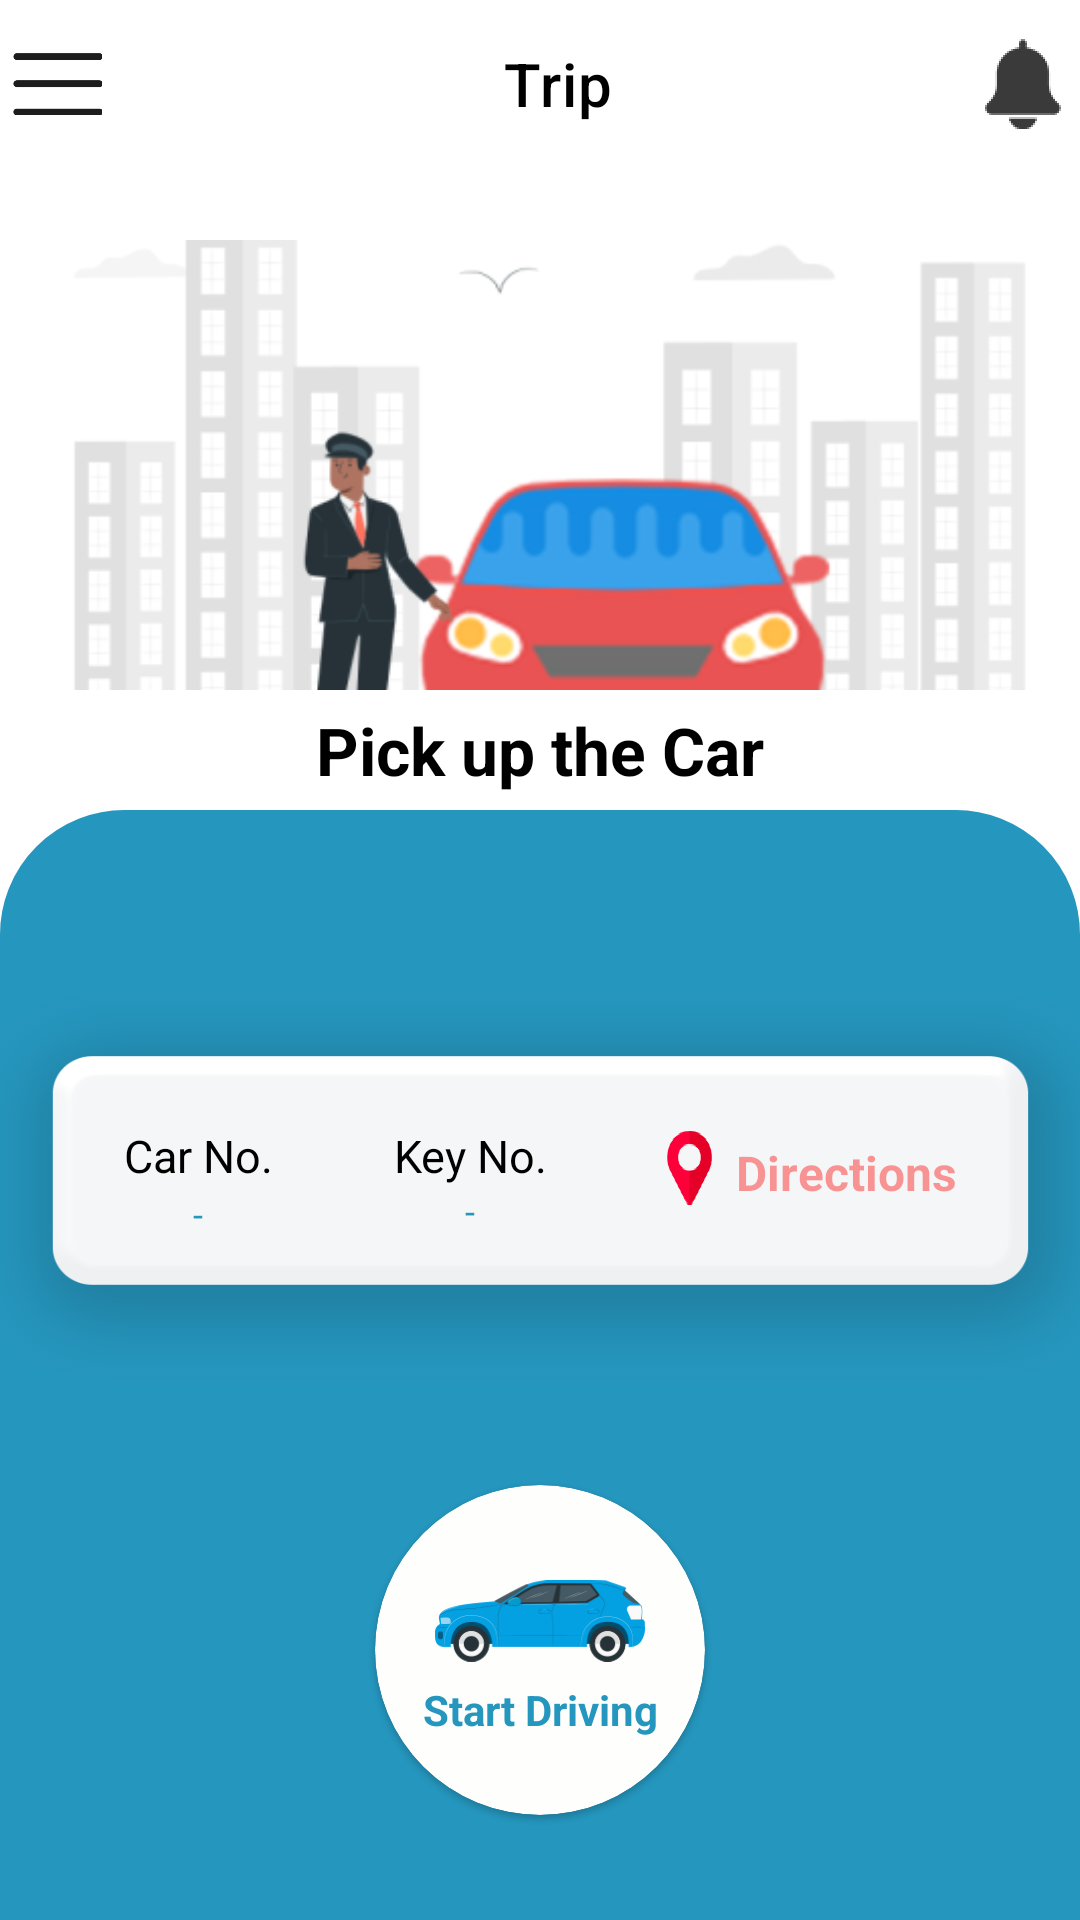

Icons on this 1080px x 1920px Android screen, each with its box as (x1, y1, x2, y2):
bluecar: (435, 1580, 645, 1662)
menu: (13, 53, 102, 115)
notifcation: (985, 39, 1061, 129)
